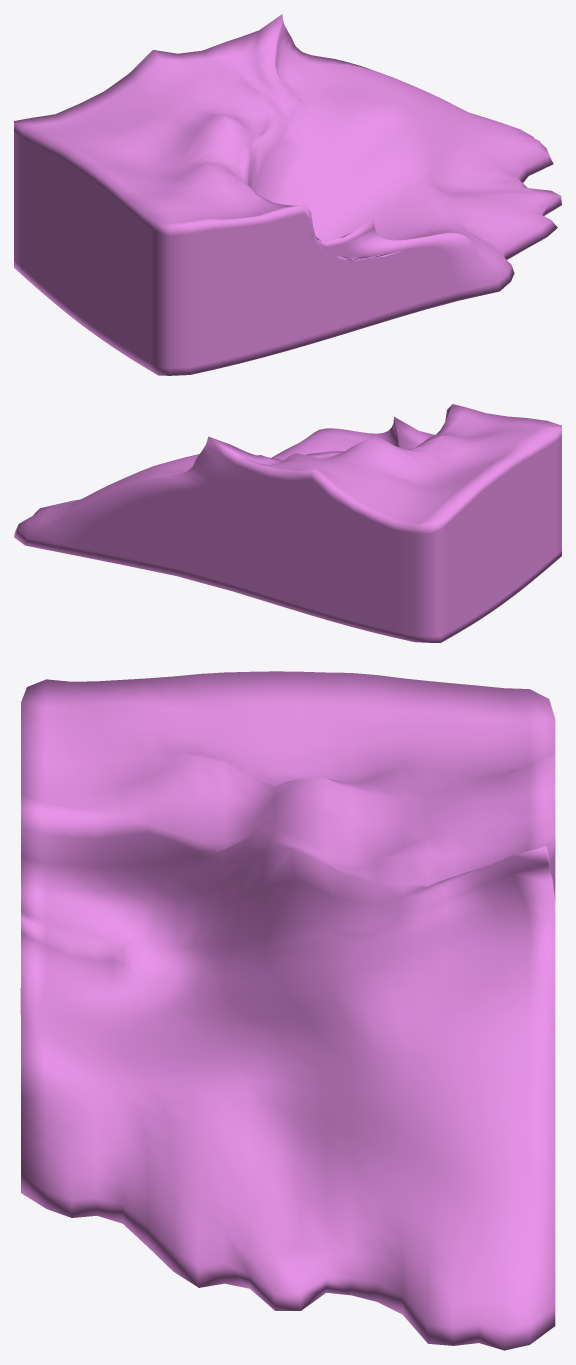
The model's file is fresa_medio.fbx.
3 renders of one model, top to bottom at view 1: azimuth 30°, elevation 25°; view 2: azimuth 150°, elevation 25°; view 3: azimuth 270°, elevation 25°, orthographic. The views are drawn at different scales.
Parts seen in each view (by area): view 1: Fresa_medio; view 2: Fresa_medio; view 3: Fresa_medio.
Part boxes in pixels (x1=…): Fresa_medio: x1=14, y1=14, x2=561, y2=375; Fresa_medio: x1=14, y1=404, x2=561, y2=642; Fresa_medio: x1=20, y1=671, x2=555, y2=1350.
Size of the model in its own units: 353 by 126 by 189.
